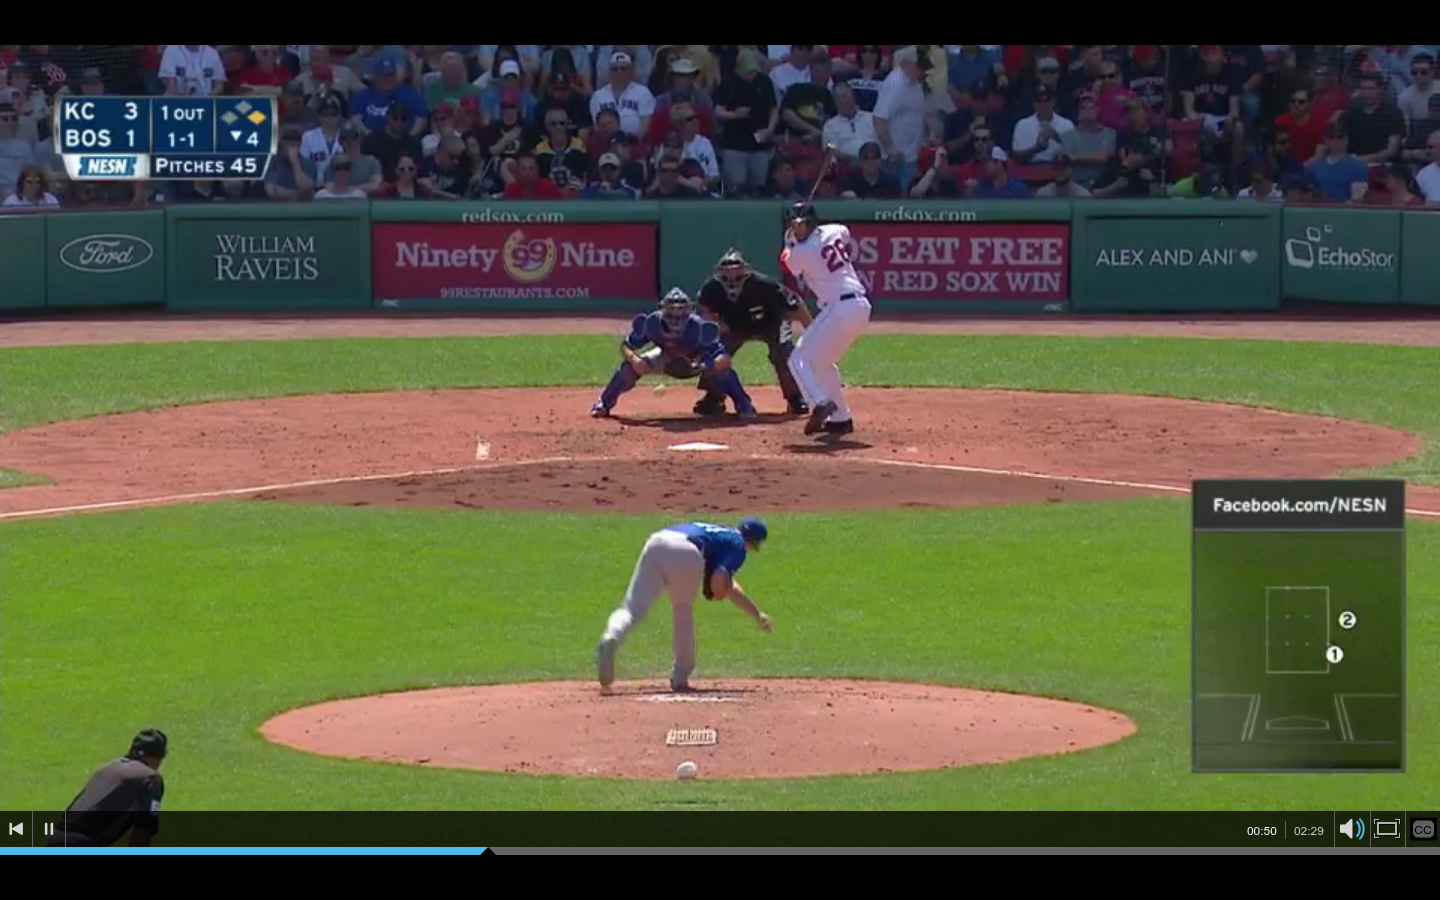baseball: (648, 380, 676, 402)
baseball bat: (805, 159, 836, 205)
baseball player: (590, 512, 781, 702), (593, 288, 762, 426), (781, 208, 875, 448)
referee: (690, 249, 807, 417)
